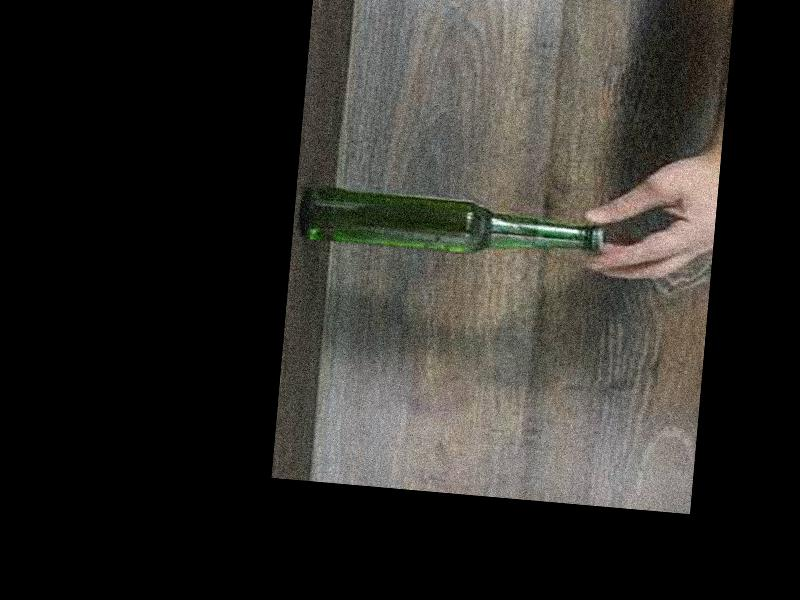Beer: (299, 184, 607, 264)
